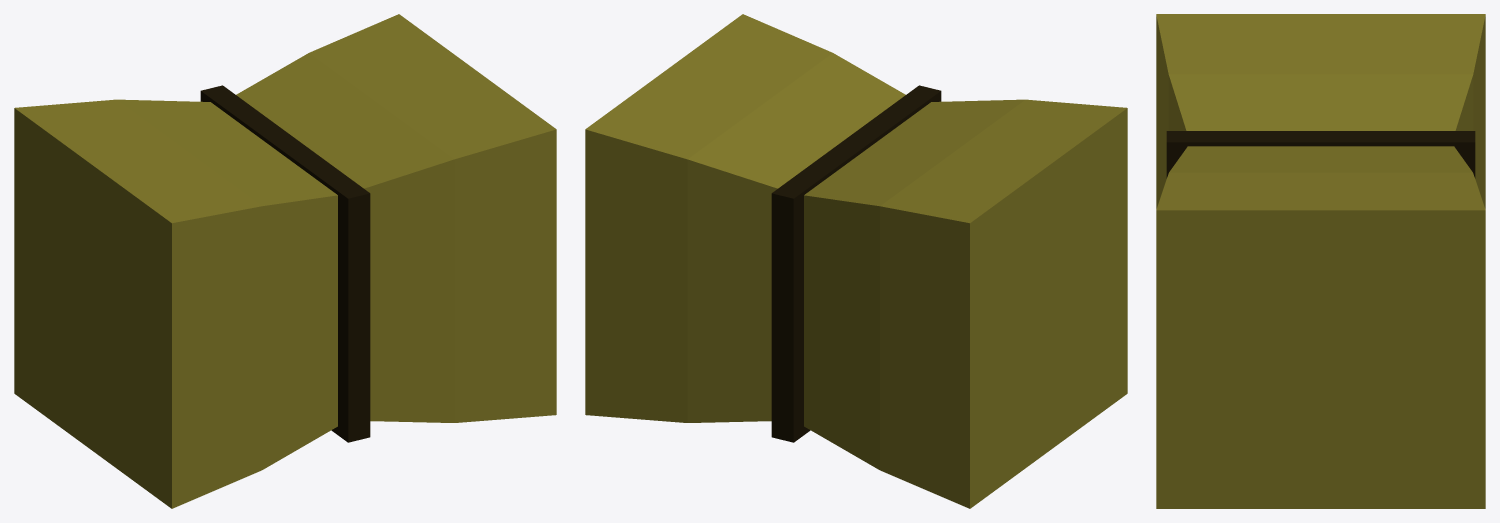
Rendered from lowPoly_hayStack.fbx.
The picture shows the model from 3 angles, left to right: view 1: azimuth 30°, elevation 25°; view 2: azimuth 150°, elevation 25°; view 3: azimuth 270°, elevation 25°; orthographic projection. The views are drawn at different scales.
Visible parts, largest first — view 1: hay; view 2: hay; view 3: hay.
Part boxes in pixels (x1,y1,x2,y2): hay: (14,14,556,508); hay: (585,14,1127,508); hay: (1156,14,1485,508).
Bounding box in the file's own units: 1.22 × 0.8651 × 0.8651.
